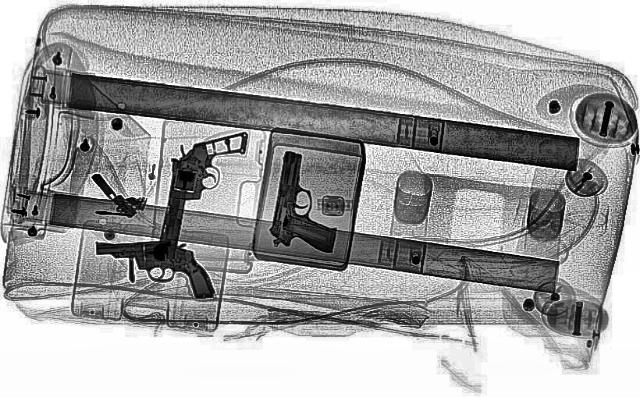Gun: (142, 122, 255, 256), (94, 226, 214, 310), (264, 150, 350, 254)
